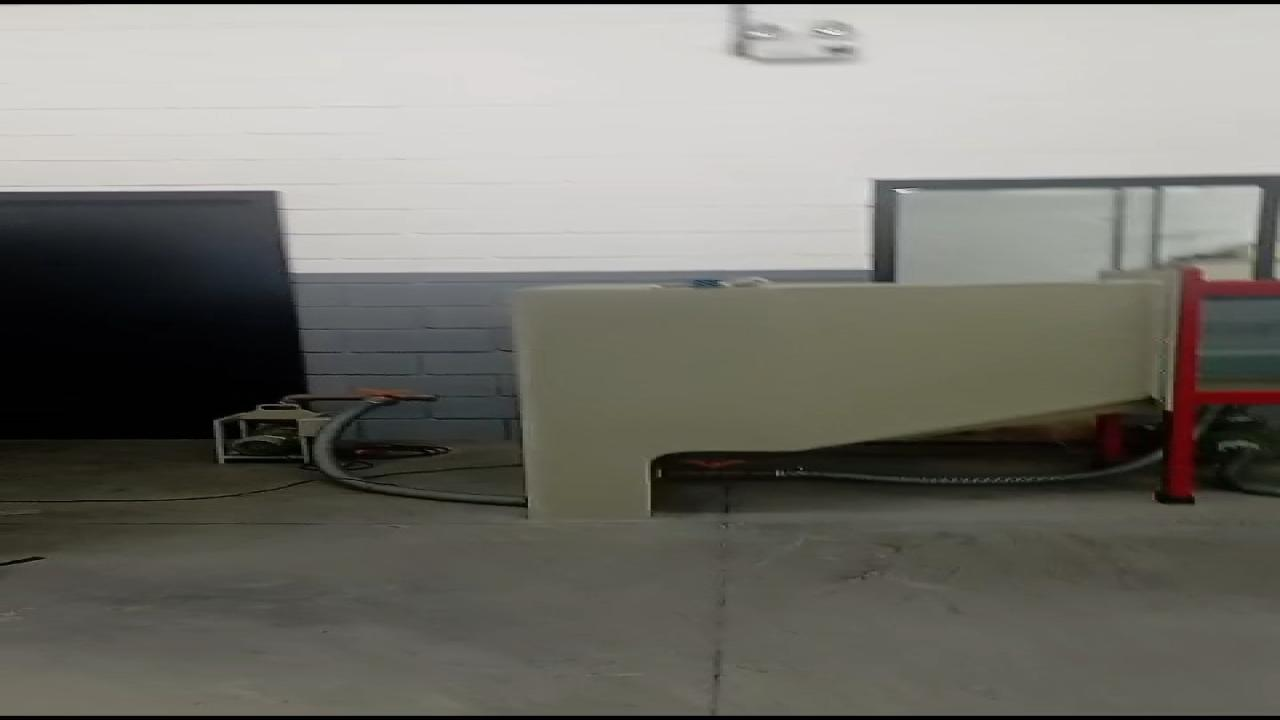Cube: (690, 280, 726, 288)
